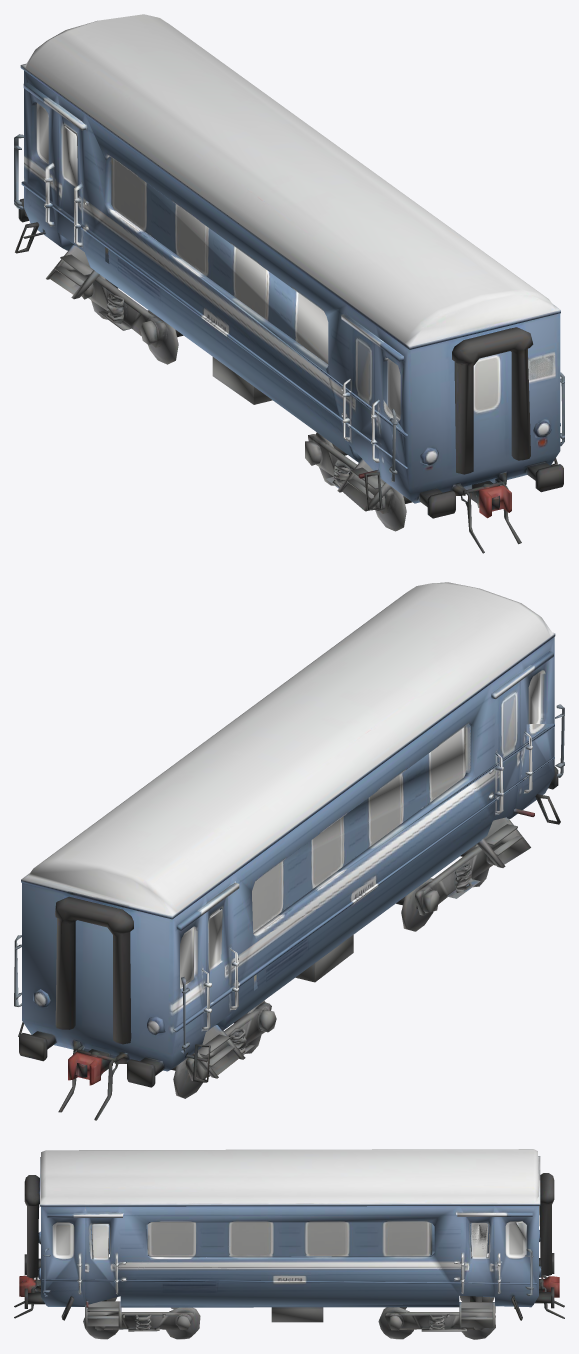
3 renders of one model, top to bottom at view 1: azimuth 30°, elevation 25°; view 2: azimuth 150°, elevation 25°; view 3: azimuth 270°, elevation 25°, orthographic. The views are drawn at different scales.
Parts seen in each view (by area): view 1: tripo_node_56f33678-b994-4621-84c2-dbdcd9920b29; view 2: tripo_node_56f33678-b994-4621-84c2-dbdcd9920b29; view 3: tripo_node_56f33678-b994-4621-84c2-dbdcd9920b29.
Boxes of the visible parts, bbox=[...] form: tripo_node_56f33678-b994-4621-84c2-dbdcd9920b29: bbox=[14, 14, 564, 553]; tripo_node_56f33678-b994-4621-84c2-dbdcd9920b29: bbox=[14, 582, 564, 1120]; tripo_node_56f33678-b994-4621-84c2-dbdcd9920b29: bbox=[14, 1149, 564, 1339].
Size of the model in its own units: 0.2559 by 0.3301 by 0.998.
1 material, 1 textured.
